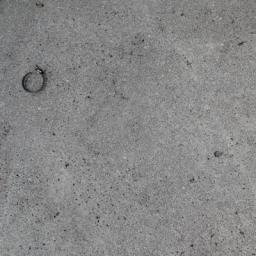FOD: (20, 66, 48, 97)
